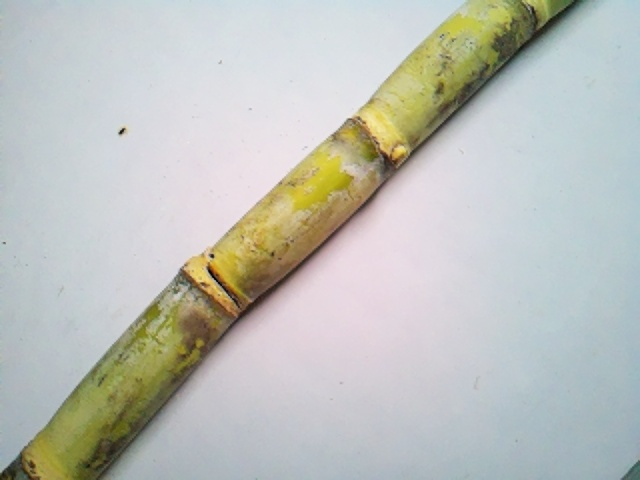Good Sugarcane: (25, 0, 570, 478)
Node: (170, 245, 255, 331), (332, 100, 418, 174)
